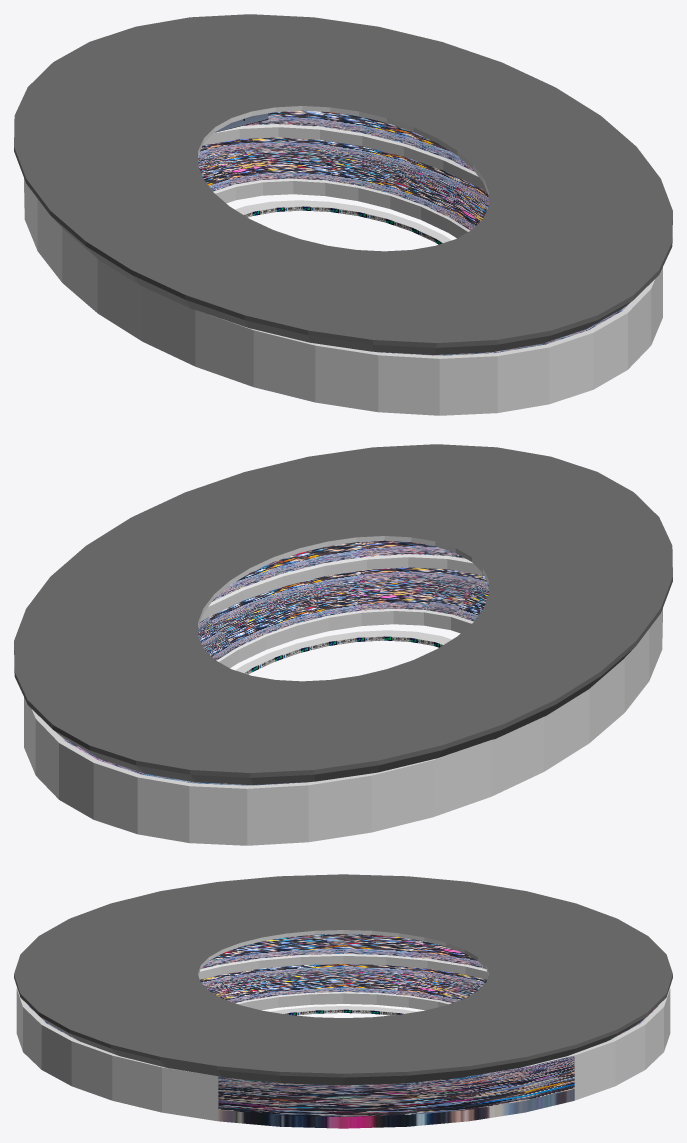
The model's file is stadium.fbx.
3 renders of one model, top to bottom at view 1: azimuth 30°, elevation 25°; view 2: azimuth 150°, elevation 25°; view 3: azimuth 270°, elevation 25°, orthographic. The views are drawn at different scales.
Parts seen in each view (by area): view 1: 円柱, 円柱.003, 円柱.002, 円柱.001; view 2: 円柱, 円柱.003, 円柱.002, 円柱.001; view 3: 円柱, 円柱.003, 円柱.002, 円柱.001.
Part boxes in pixels (x1,y1,x2,y2): 円柱: (14, 14, 672, 354); 円柱.003: (24, 110, 662, 415); 円柱.002: (198, 137, 488, 237); 円柱.001: (235, 200, 451, 244); 円柱: (14, 444, 672, 784); 円柱.003: (24, 540, 662, 845); 円柱.002: (198, 567, 488, 667); 円柱.001: (235, 630, 451, 674); 円柱: (14, 874, 672, 1085); 円柱.003: (16, 933, 670, 1128); 円柱.002: (200, 964, 486, 1010); 円柱.001: (270, 1006, 416, 1015).
Size of the model in its own units: 1308 by 252 by 1826.
